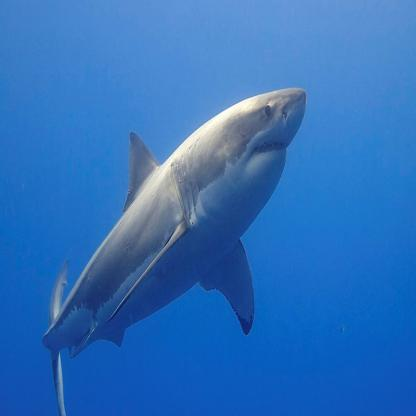white-shark: (43, 88, 307, 415)
